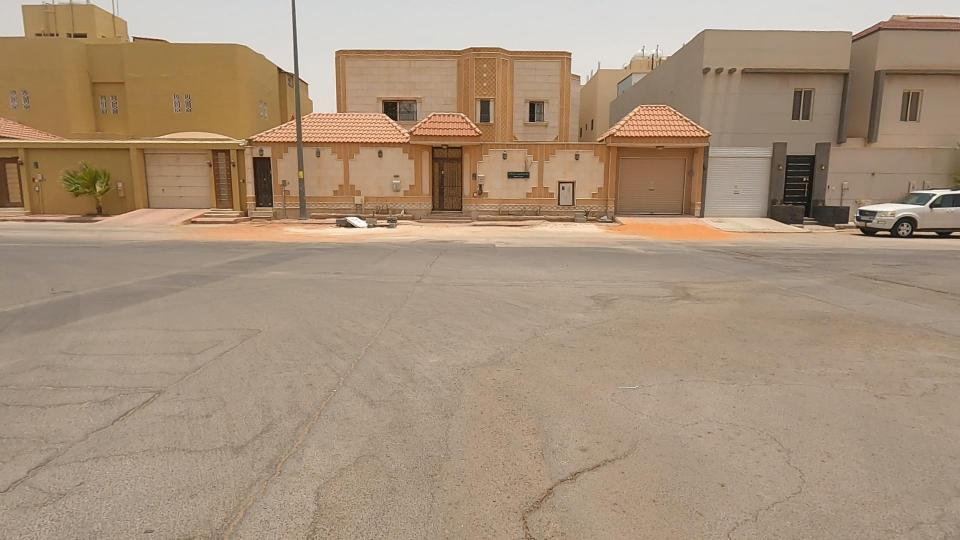GARBAGE: (296, 189, 435, 258)
